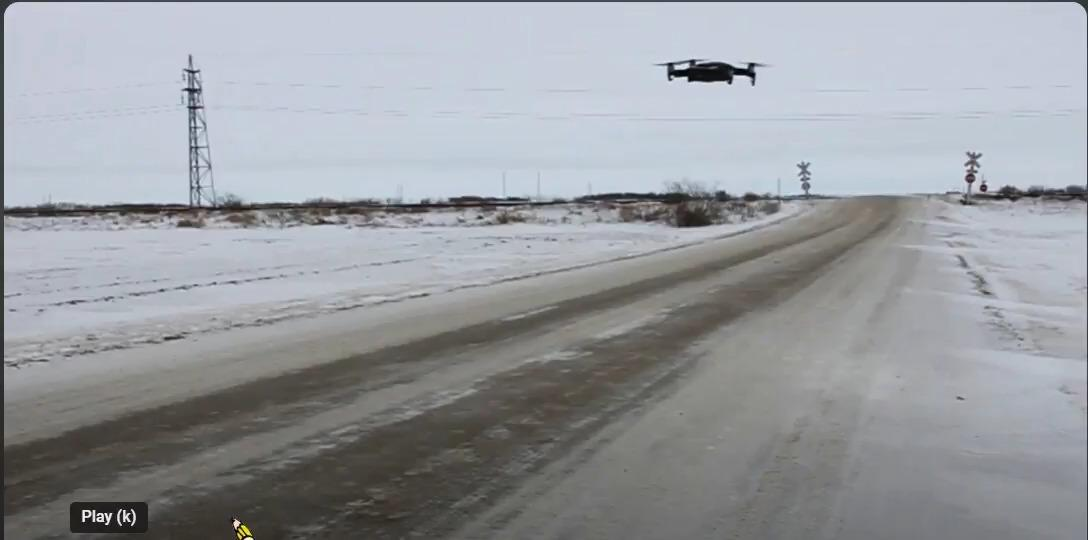dr: (640, 36, 778, 105)
